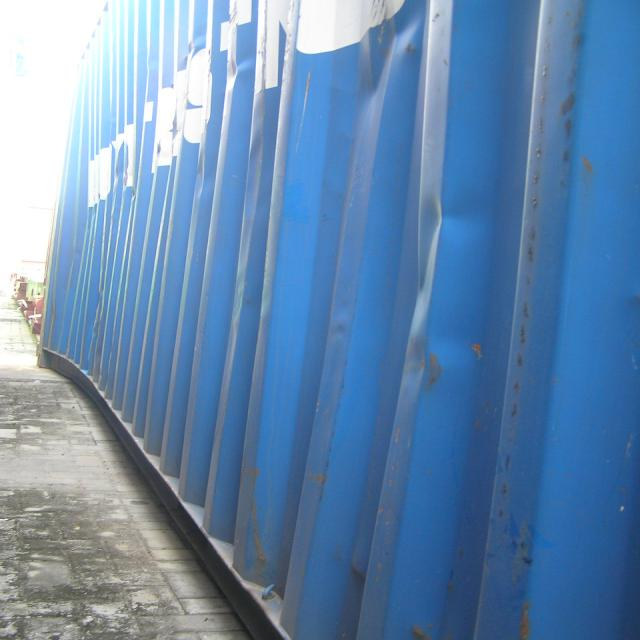dent: (180, 16, 541, 445)
